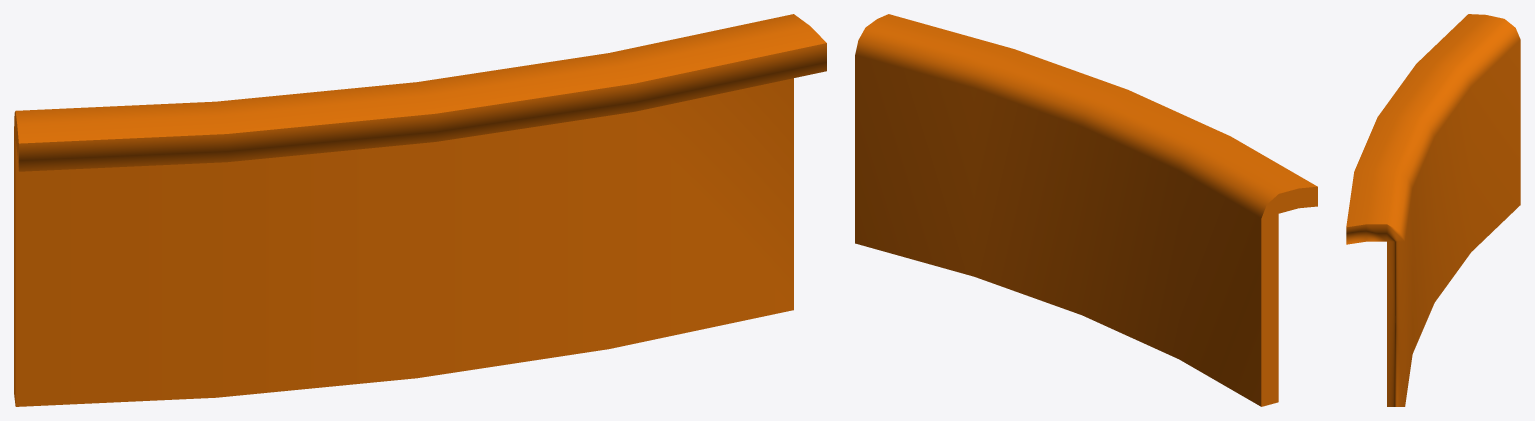
File: Plastic_Pipe_E_Left.fbx
3 views of the same model, side by side, from view 1: azimuth 30°, elevation 25°; view 2: azimuth 150°, elevation 25°; view 3: azimuth 270°, elevation 25° (orthographic). The views are drawn at different scales.
Parts seen in each view (by area): view 1: Plastic_Pipe_E_Left; view 2: Plastic_Pipe_E_Left; view 3: Plastic_Pipe_E_Left.
Boxes of the visible parts, x1,y1,x2,y2 form: Plastic_Pipe_E_Left: (14, 14, 826, 406); Plastic_Pipe_E_Left: (855, 14, 1317, 406); Plastic_Pipe_E_Left: (1346, 14, 1520, 406).
Bounding box in the file's own units: 6.18 × 2.47 × 2.14.
